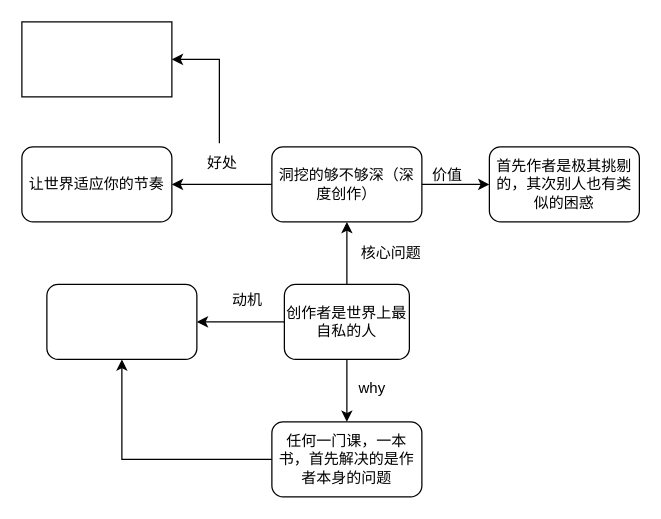
Image size: 661x519. Some labels were removed from this diagram. The shapes that lost their labels are listed below. From the top down, each one's centre as x and y in pixels, then its label:
(96,59): 最好的知识管理、注意力管理、人际关系管理
(121,321): 曾经困扰你的问题，打动你的事物
